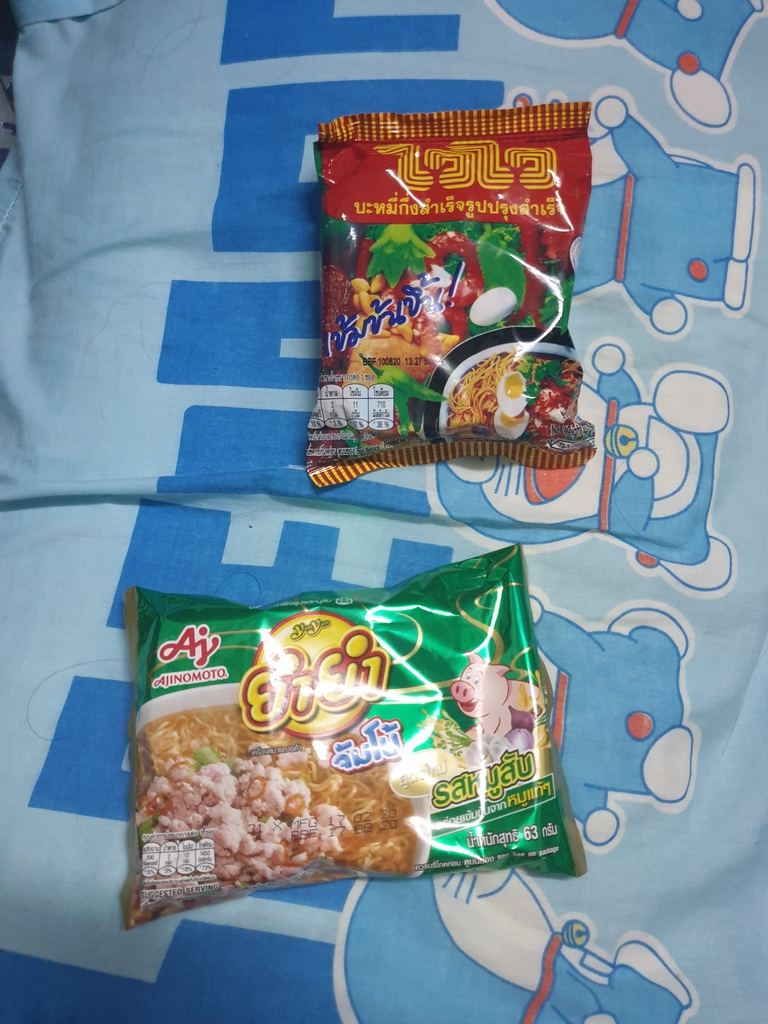waiwai: (313, 106, 602, 483)
yumyum: (115, 573, 604, 916)
